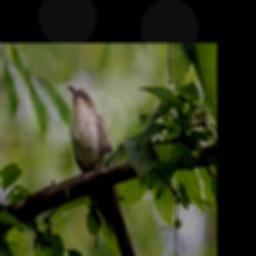Cuckoo: (67, 85, 147, 256)
